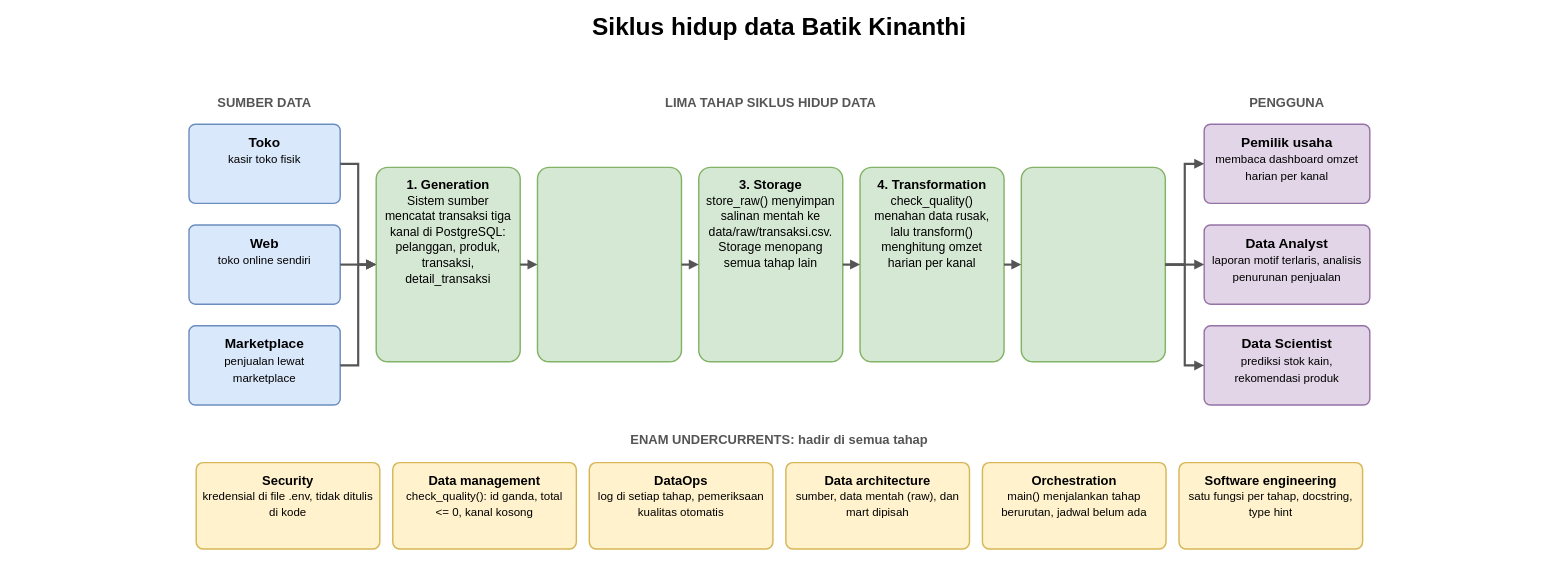
Some shapes in this 1551 by 562 pixel diagram are drawn without their labels. The shapes that lost their labels are listed below. From the top down, each one's centre as x and y in pixels, then its label:
the point at 609,264: 2. Ingestion ingest() mengambil data transaksi dari sumber ke pipeline
the point at 1093,264: 5. Serving serve() menulis tabel siap pakai mart_omzet_harian
